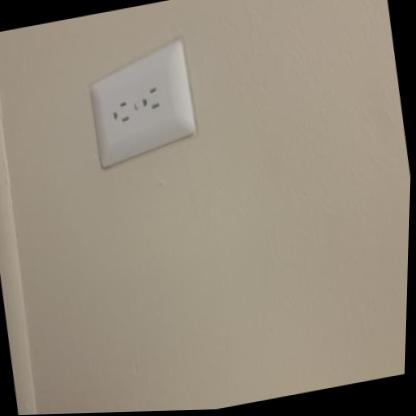OUTLET: (82, 47, 199, 164)
